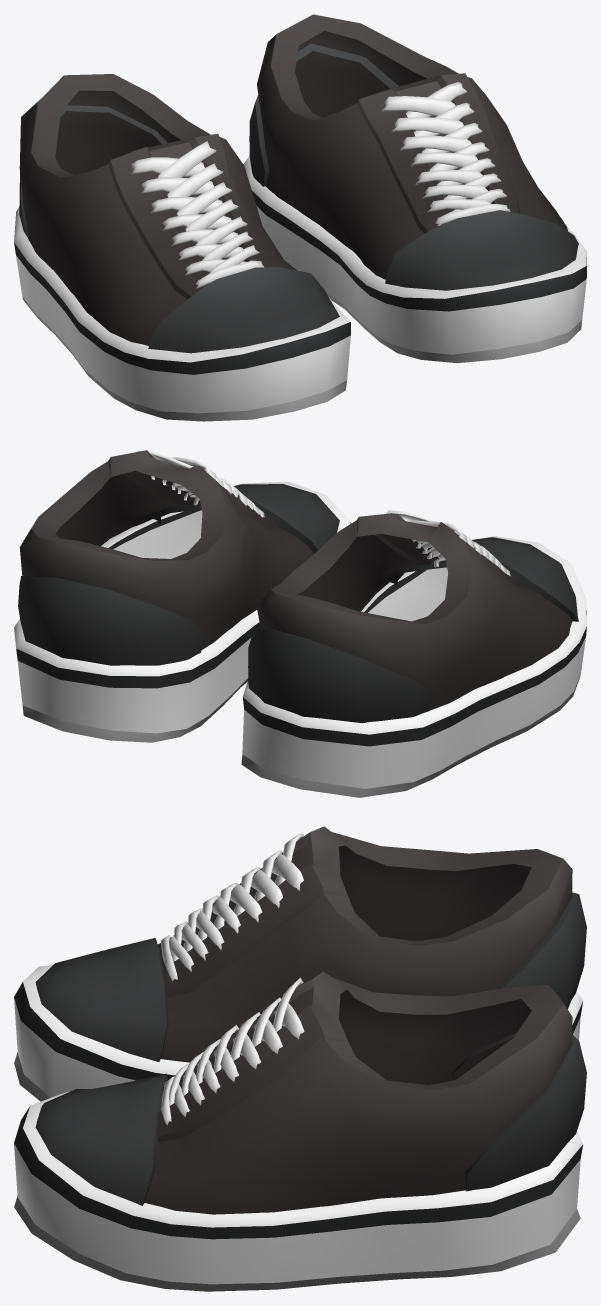
The model's file is Shoe_Sneakers_14.glb.
The picture shows the model from 3 angles, top to bottom: view 1: azimuth 30°, elevation 25°; view 2: azimuth 150°, elevation 25°; view 3: azimuth 270°, elevation 25°; orthographic projection. The views are drawn at different scales.
Parts seen in each view (by area): view 1: Shoe_Sneakers_14; view 2: Shoe_Sneakers_14; view 3: Shoe_Sneakers_14.
Boxes of the visible parts, x1,y1,x2,y2 form: Shoe_Sneakers_14: [14, 14, 586, 421]; Shoe_Sneakers_14: [14, 450, 586, 797]; Shoe_Sneakers_14: [14, 826, 586, 1291].
Size of the model in its own units: 0.2553 by 0.1064 by 0.2276.
Materials: 1 (1 with a texture image).
